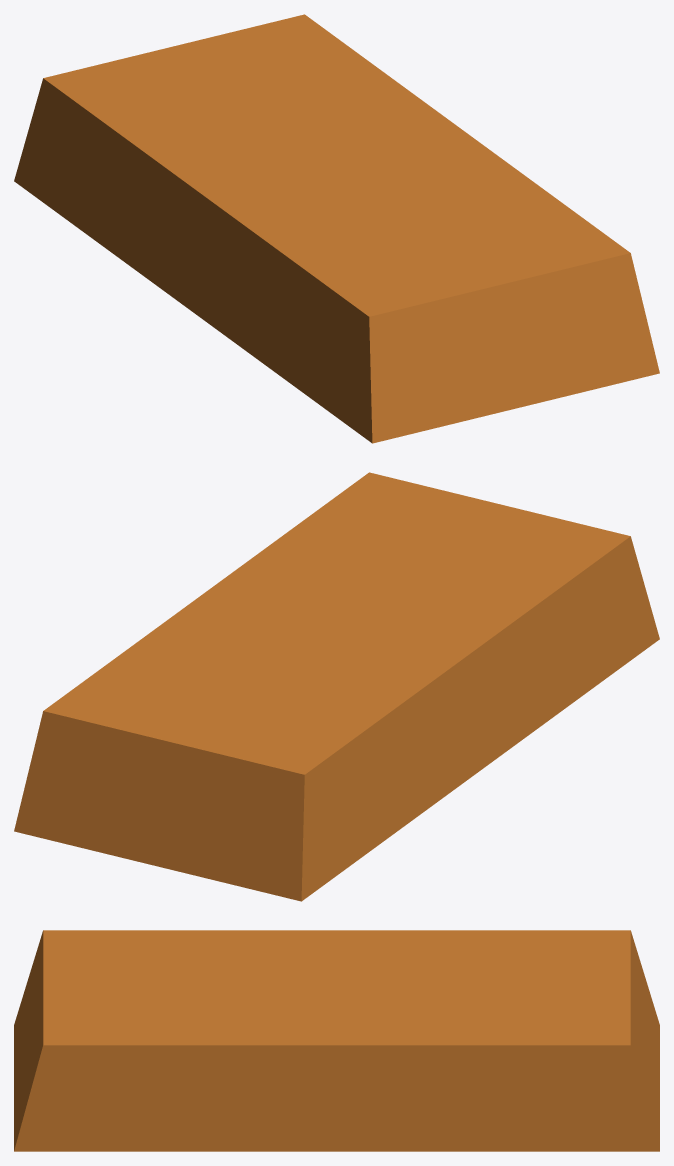
File: bronze_ingot.fbx
The picture shows the model from 3 angles, top to bottom: view 1: azimuth 30°, elevation 25°; view 2: azimuth 150°, elevation 25°; view 3: azimuth 270°, elevation 25°; orthographic projection. The views are drawn at different scales.
Visible parts, largest first — view 1: bronze_ingot; view 2: bronze_ingot; view 3: bronze_ingot.
Part boxes in pixels (box(x1,y1,x2,y2)): bronze_ingot: box(14, 14, 659, 443); bronze_ingot: box(14, 472, 659, 901); bronze_ingot: box(14, 930, 659, 1151).
Size of the model in its own units: 28.01 by 10.4 by 60.47.
